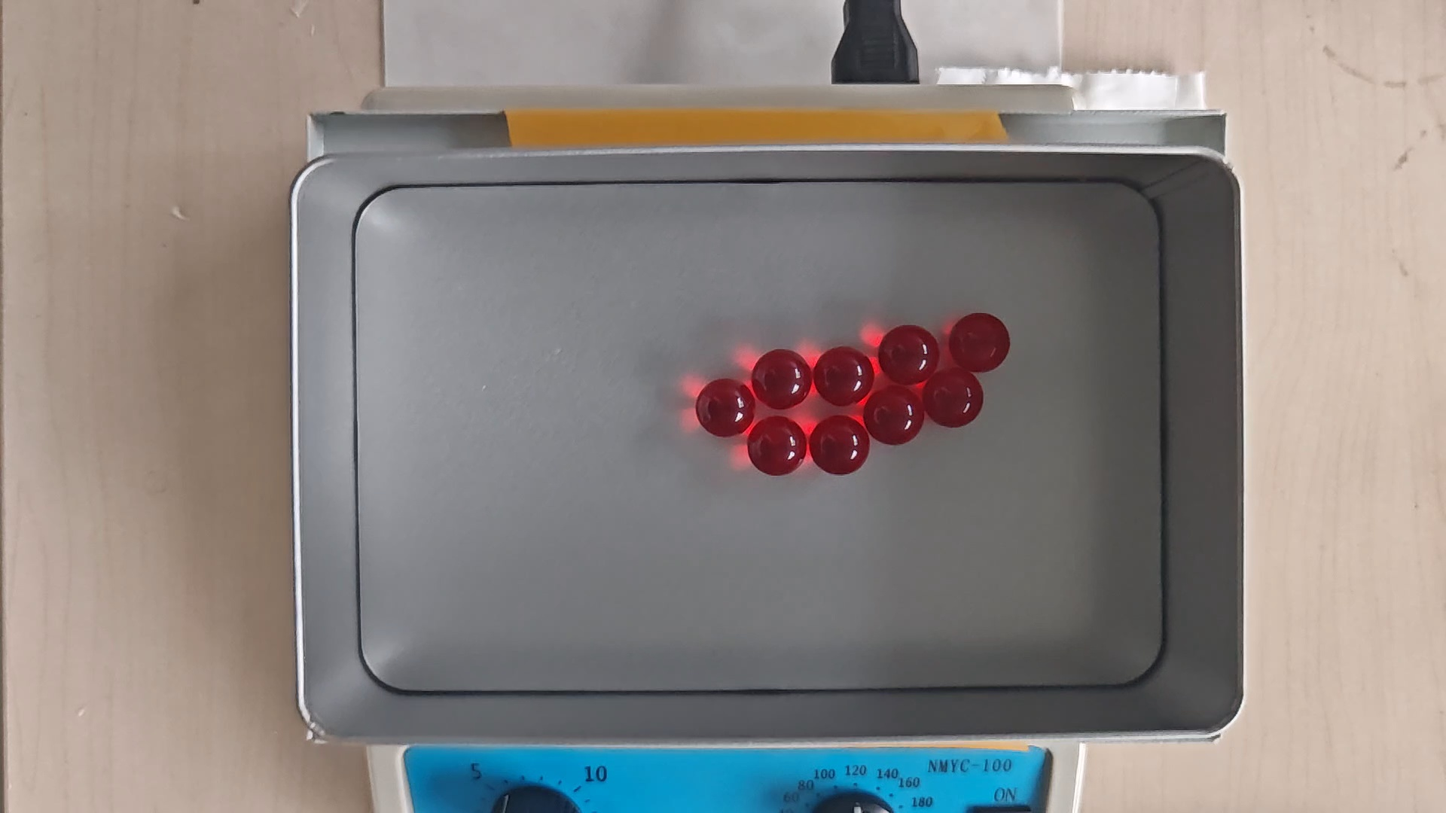ball: (924, 368, 984, 429), (748, 416, 808, 477), (950, 312, 1010, 372), (753, 349, 811, 411), (879, 325, 938, 385), (865, 386, 924, 446), (696, 378, 756, 437), (811, 415, 869, 476), (814, 347, 872, 407)
container: (349, 178, 1165, 686)
